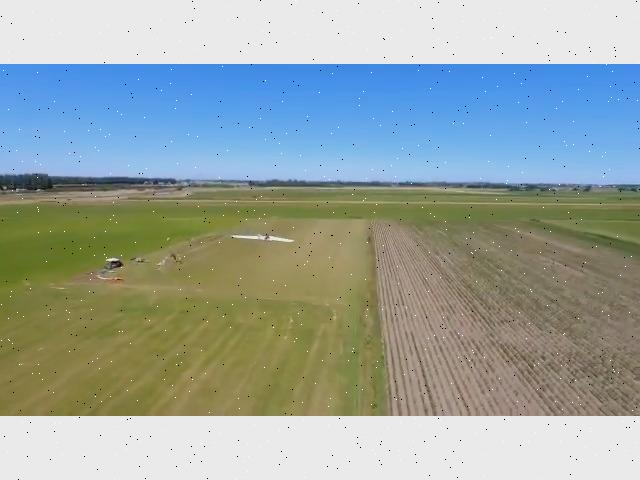Anti-Drone: (230, 221, 308, 257)
